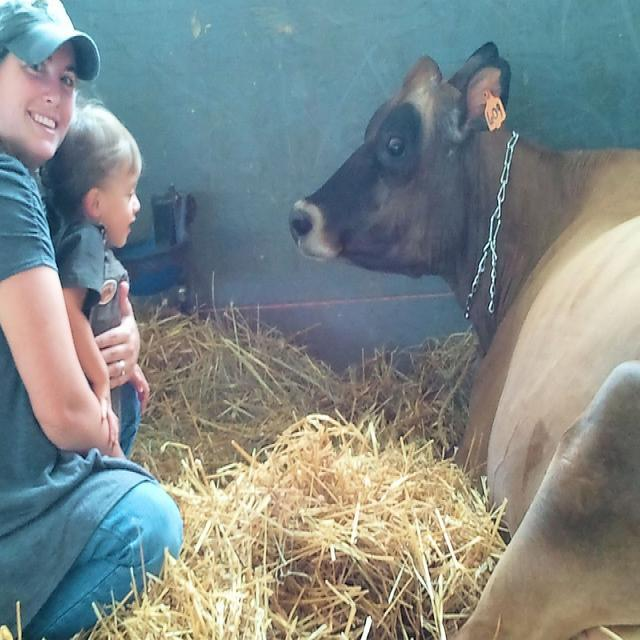cow: (289, 40, 638, 632)
